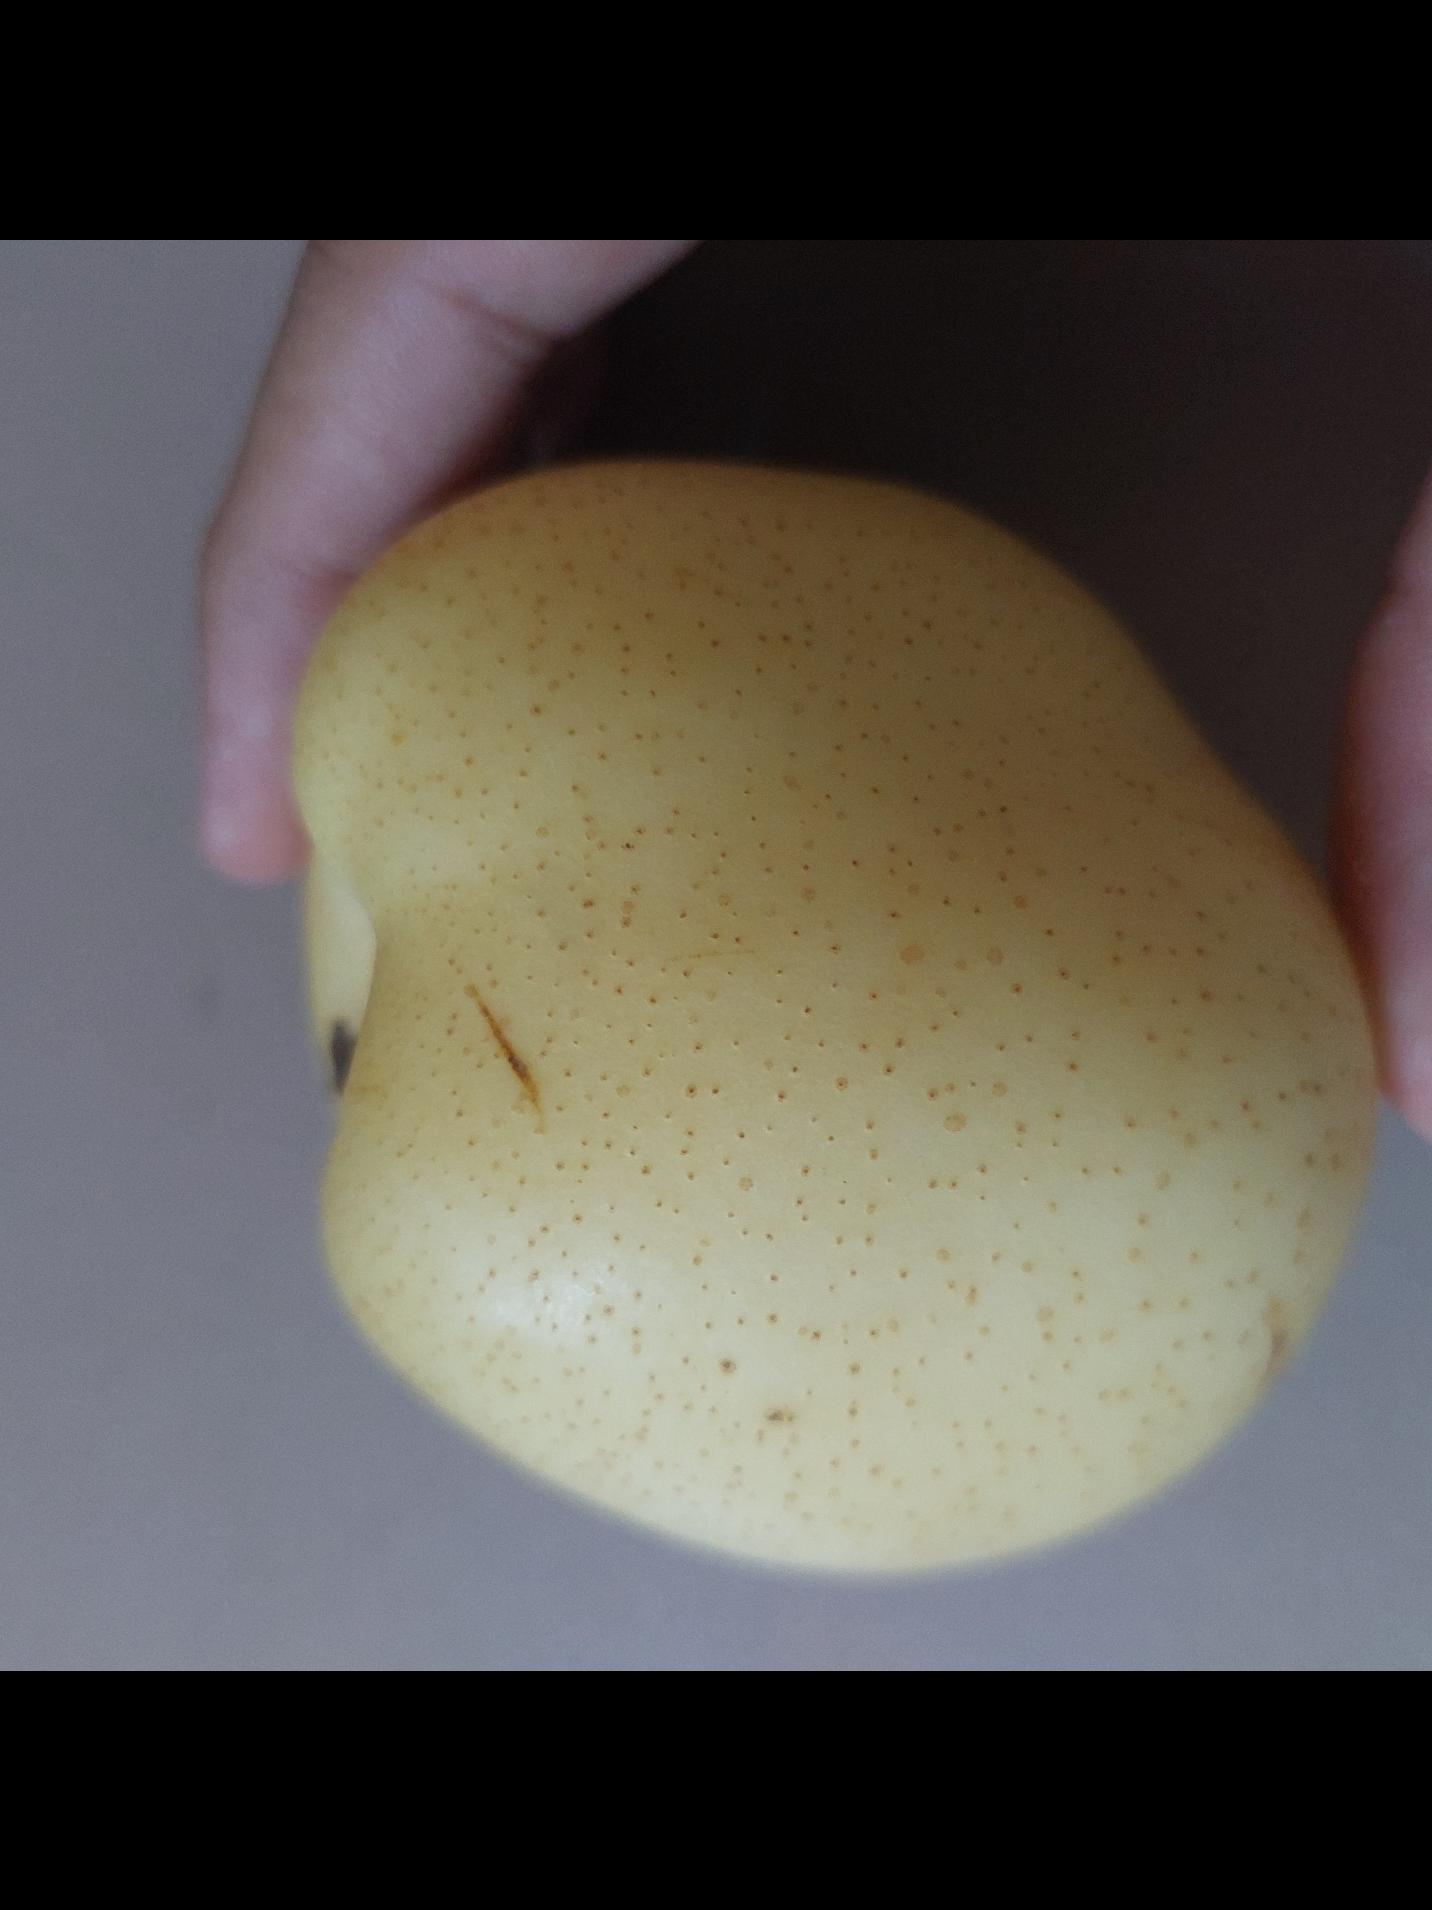Good Pear: (287, 439, 1388, 1597)
